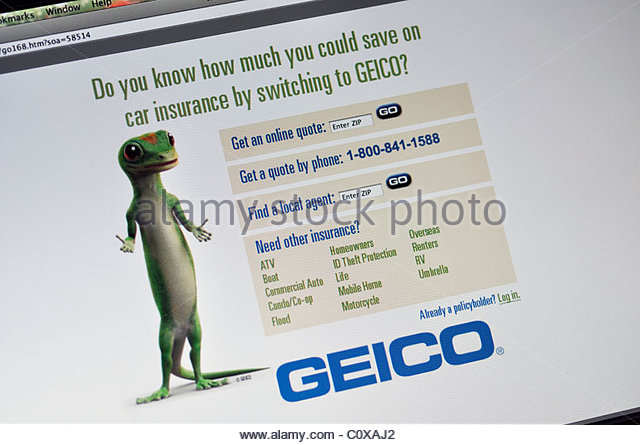geico: (275, 321, 499, 409)
